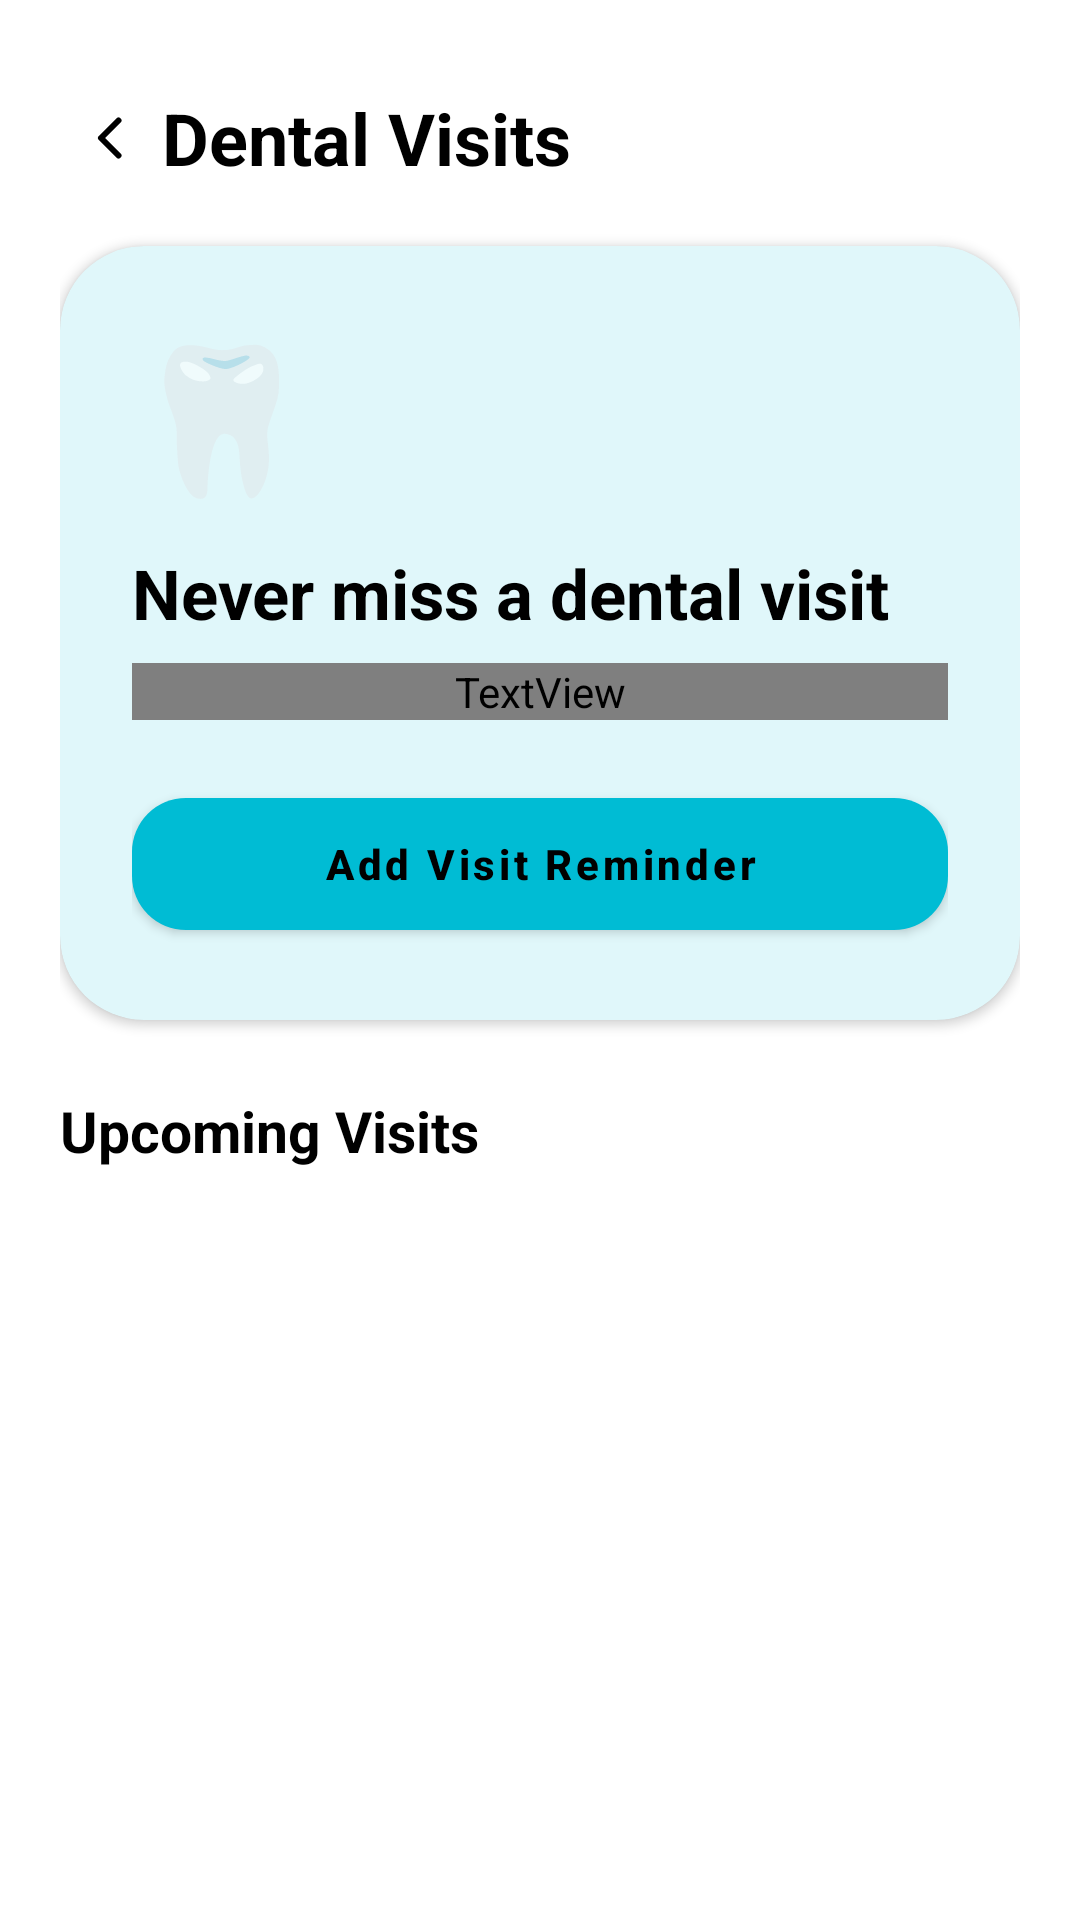

Point at icon controls on the screen. Image size 1080w x 1920h, points as point (x, y).
arrow back: point (110, 138)
